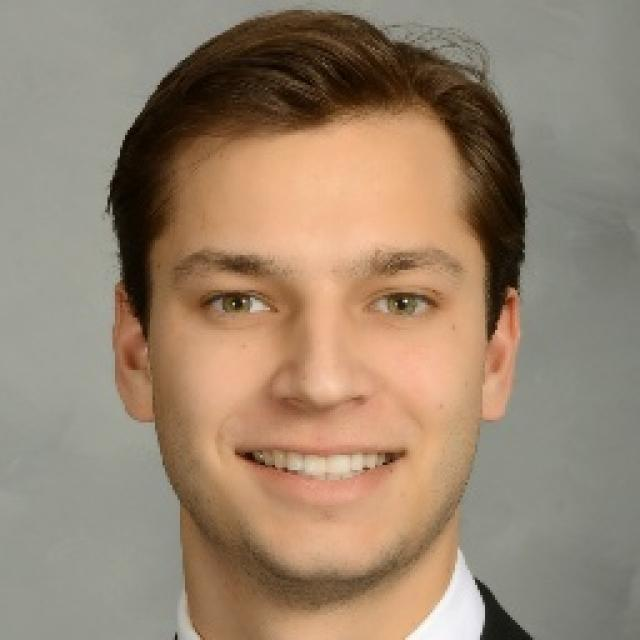earlobe: (120, 381, 158, 424), (478, 374, 510, 422)
eye: (205, 292, 273, 316), (370, 294, 434, 319)
nose: (274, 395, 376, 428)
wholeear: (109, 282, 157, 424), (478, 285, 521, 421)
